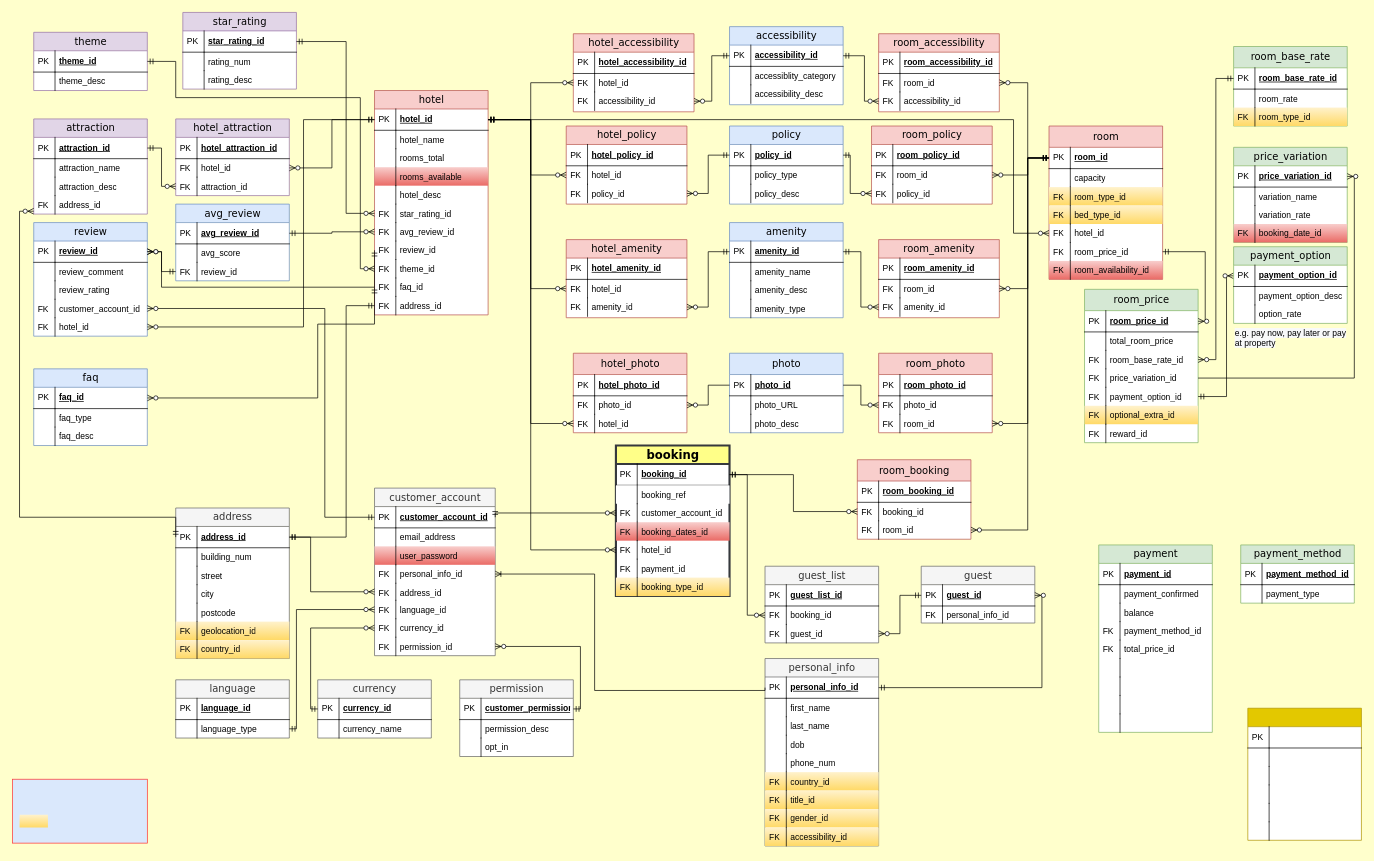
The diagram is 1374 pixels wide and 861 high, and some of its shapes have lost their labels. The shapes that lost their labels are listed below. From the top down, each one's box as (x1, y1, x2, y2) in pixels, then its label:
(1247, 708, 1361, 840): rewards
(12, 779, 147, 843): Key = further extension out of scope.
